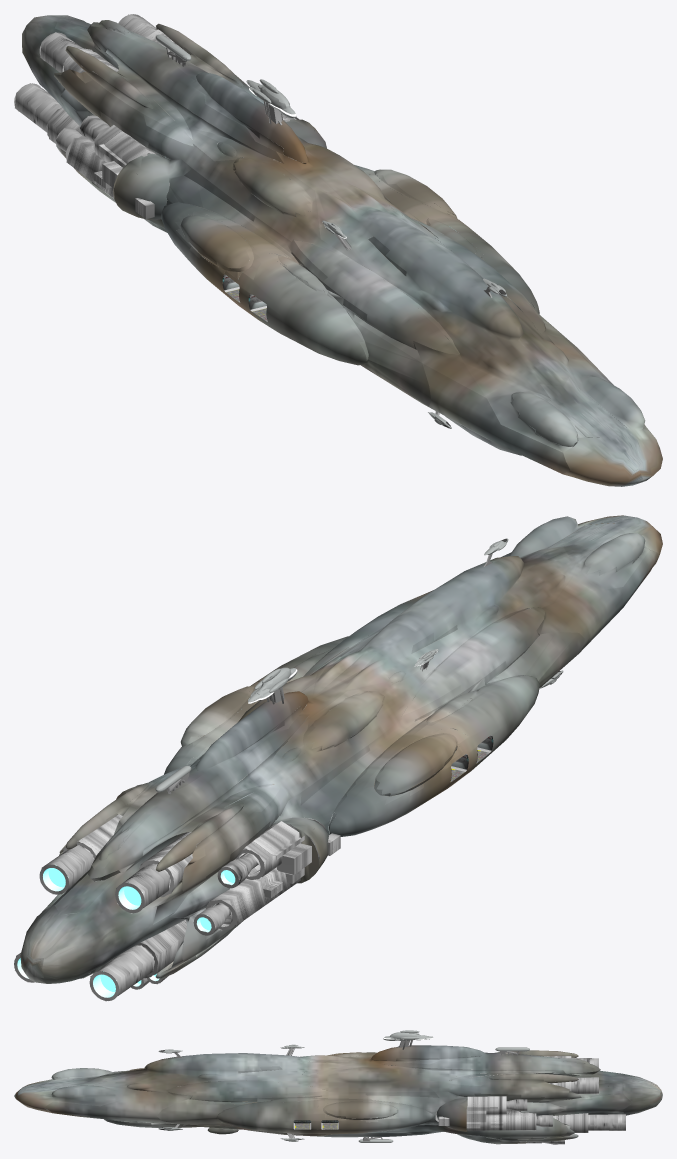
Rendered from white-king.glb.
The picture shows the model from 3 angles, top to bottom: view 1: azimuth 30°, elevation 25°; view 2: azimuth 150°, elevation 25°; view 3: azimuth 270°, elevation 25°; orthographic projection. The views are drawn at different scales.
Visible parts, largest first — view 1: Comet_King_25_rcmain_1, Comet_King_02_rc_eng_pipes_1, Comet_King_03_rc_eng_smooth_1, Comet_King_26_rcmainpod_1; view 2: Comet_King_25_rcmain_1, Comet_King_02_rc_eng_pipes_1, Comet_King_03_rc_eng_smooth_1, Comet_King_01_rc_eng_lites_1, Comet_King_26_rcmainpod_1; view 3: Comet_King_25_rcmain_1, Comet_King_02_rc_eng_pipes_1, Comet_King_03_rc_eng_smooth_1, Comet_King_26_rcmainpod_1, Comet_King_28_rcmainstru_1.
Part boxes in pixels (x1,y1,x2,y2): Comet_King_25_rcmain_1: (22,15,662,486); Comet_King_02_rc_eng_pipes_1: (46,29,314,218); Comet_King_03_rc_eng_smooth_1: (14,14,156,151); Comet_King_26_rcmainpod_1: (155,34,507,428); Comet_King_25_rcmain_1: (20,515,662,983); Comet_King_02_rc_eng_pipes_1: (63,785,340,978); Comet_King_03_rc_eng_smooth_1: (14,845,258,1001); Comet_King_01_rc_eng_lites_1: (17,864,235,997); Comet_King_26_rcmainpod_1: (155,538,563,792); Comet_King_25_rcmain_1: (14,1045,662,1144); Comet_King_02_rc_eng_pipes_1: (435,1056,588,1143); Comet_King_03_rc_eng_smooth_1: (506,1057,625,1144); Comet_King_26_rcmainpod_1: (158,1030,529,1142); Comet_King_28_rcmainstru_1: (174,1039,519,1141).
Bounding box in the file's own units: 1.43 × 1.26 × 6.6.
Materials: 29 (26 with a texture image).
